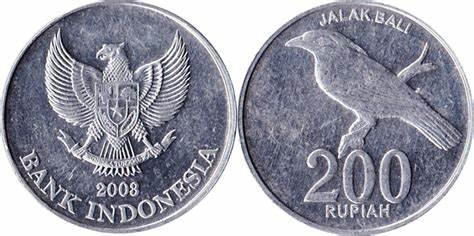coin_200_e2003: (0, 0, 238, 236), (236, 0, 474, 236)
